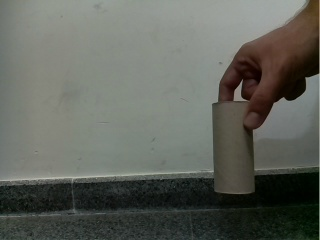rollo papel: (211, 100, 256, 195)
